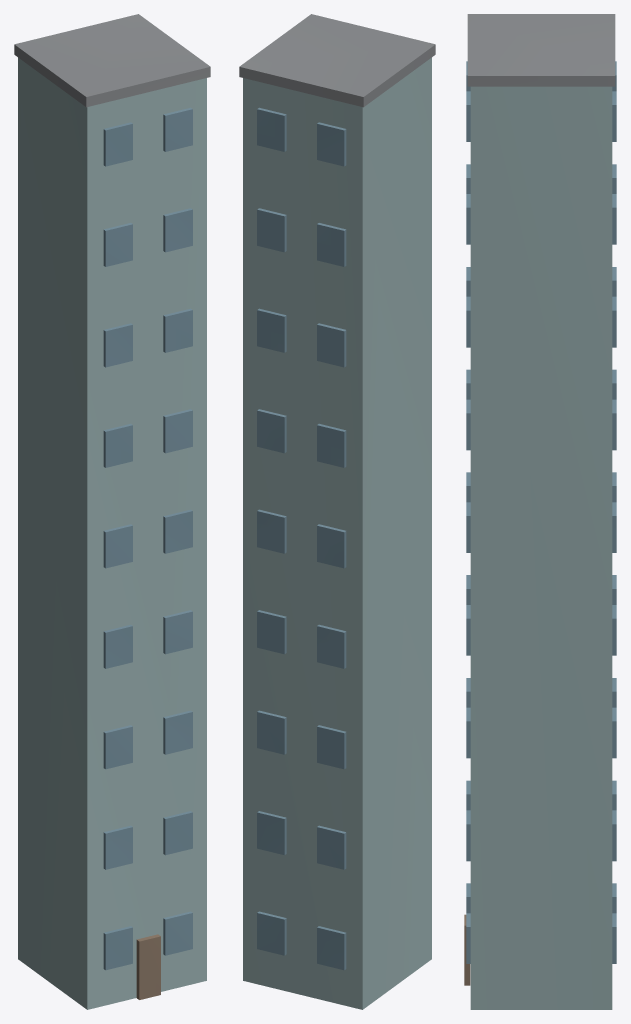
The model's file is tower-04.glb.
3 renders of one model, left to right at view 1: azimuth 30°, elevation 25°; view 2: azimuth 150°, elevation 25°; view 3: azimuth 270°, elevation 25°, orthographic. The views are drawn at different scales.
Parts seen in each view (by area): view 1: world; view 2: world; view 3: world.
Part boxes in pixels (left/top/right/bottom): world: left=14, top=14, right=210, bottom=1009; world: left=239, top=14, right=435, bottom=1009; world: left=464, top=14, right=616, bottom=1009.
Size of the model in its own units: 0.888 by 6.24 by 0.9202.
